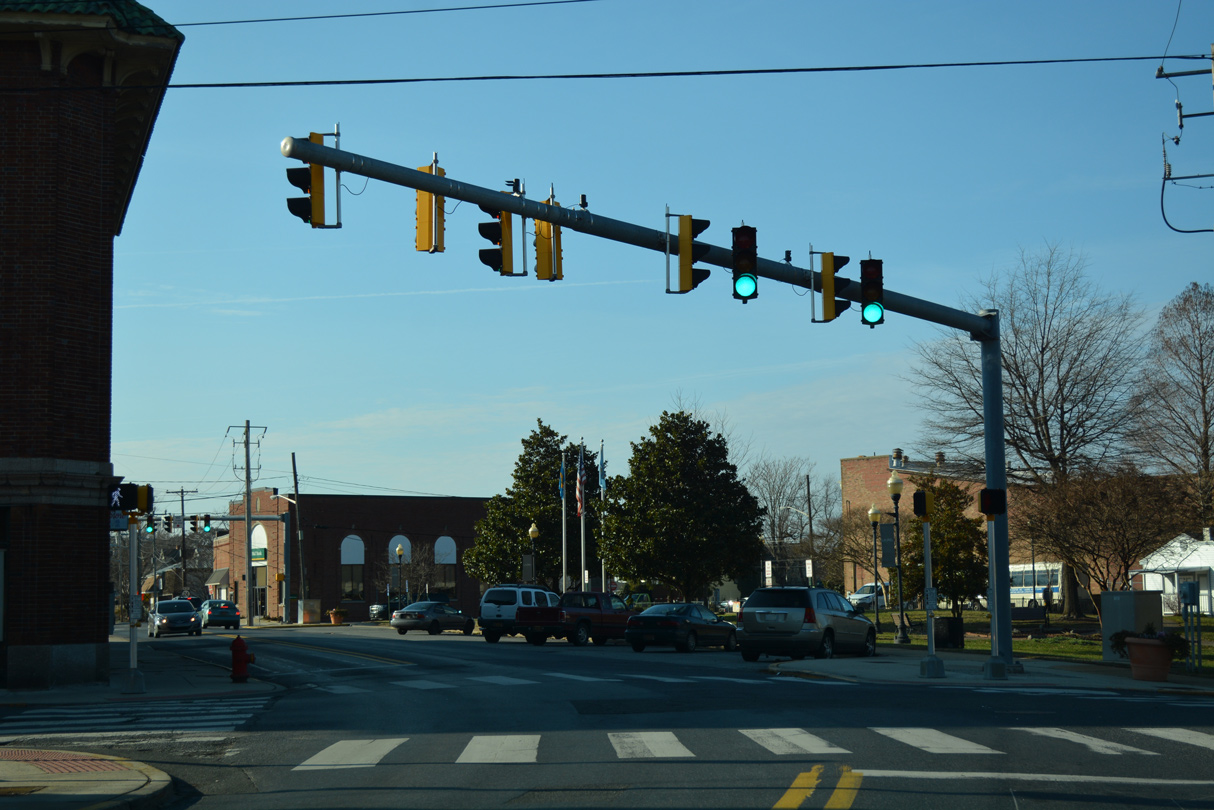traffic_light: (729, 224, 760, 305), (857, 258, 887, 330)
